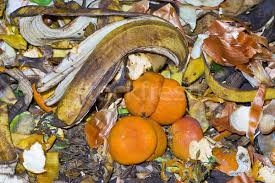kitchen_waste: (10, 4, 188, 131), (181, 54, 275, 106), (191, 17, 274, 68), (107, 114, 171, 168), (167, 115, 214, 164), (123, 69, 166, 119), (152, 75, 191, 126), (1, 64, 36, 113), (1, 102, 19, 164), (19, 141, 50, 174)
